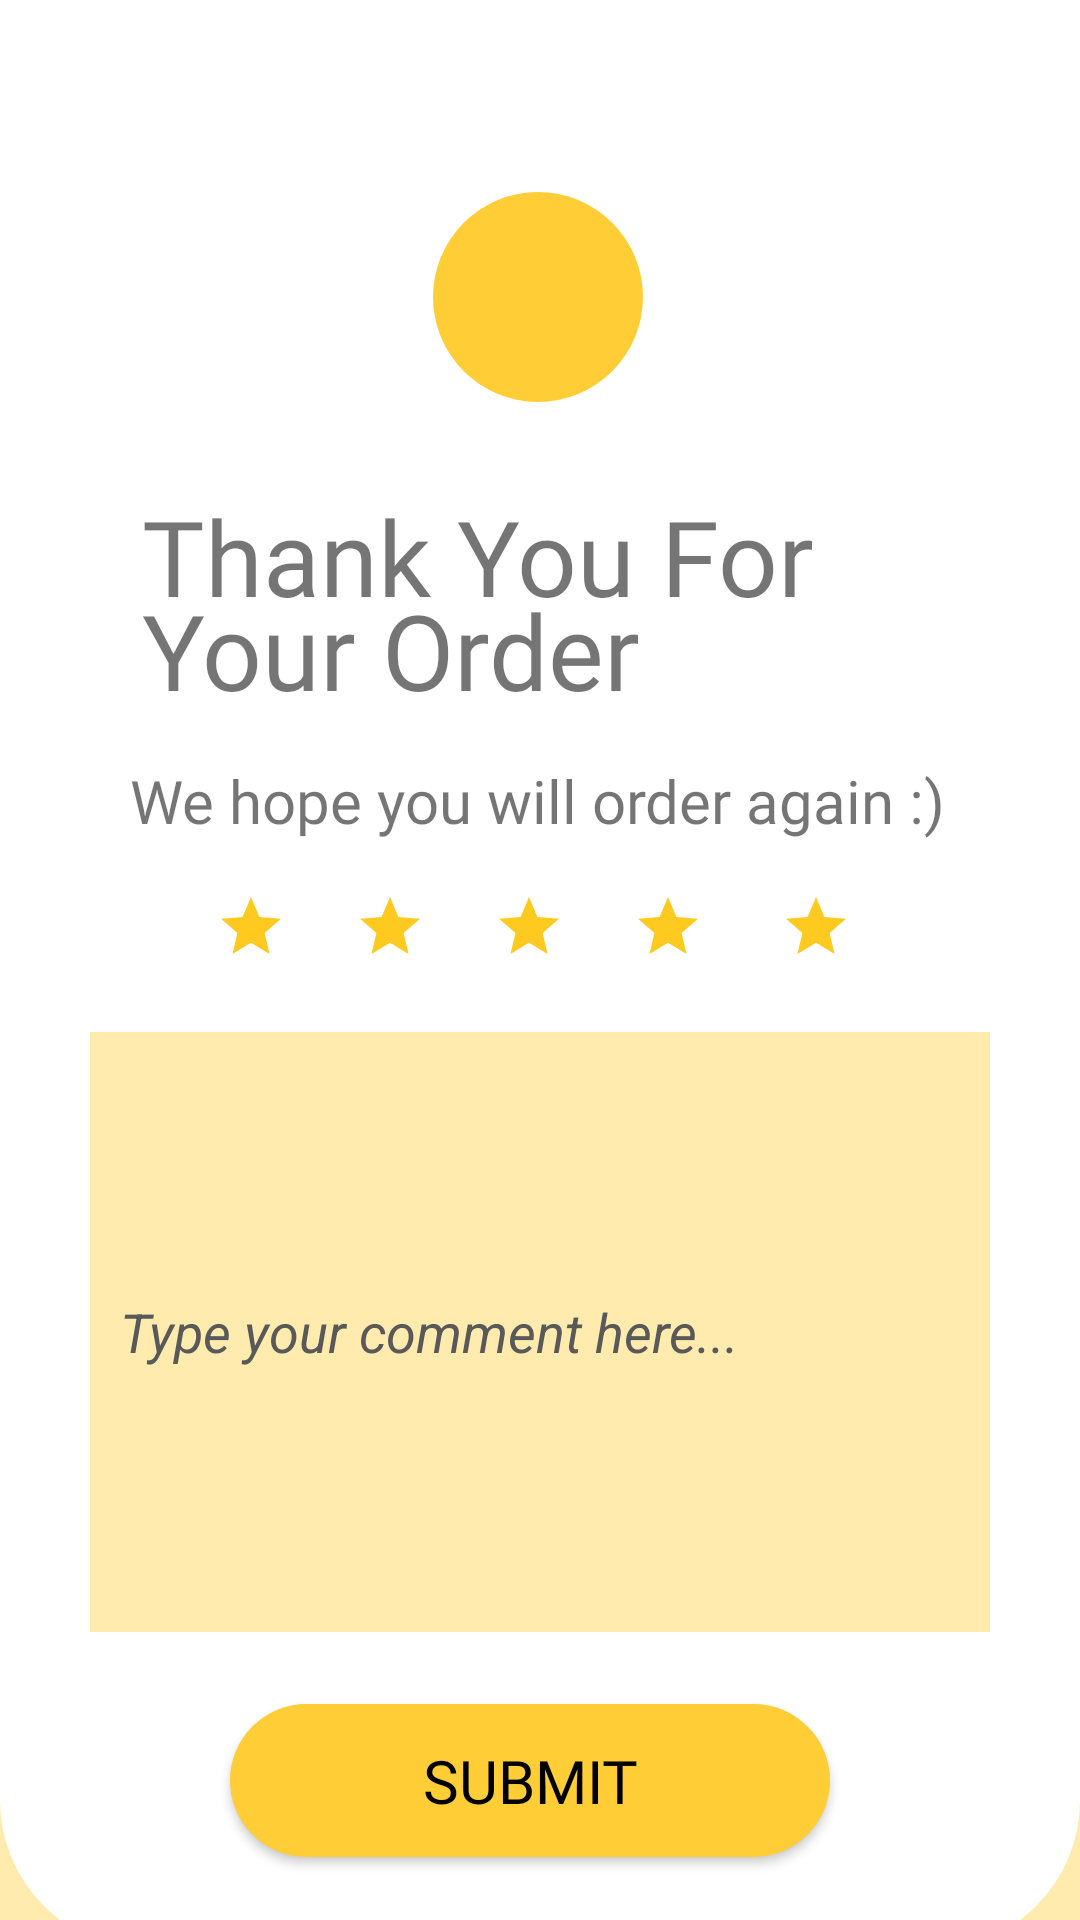

Point at icon controls on the screen. Image size 1080 × 1920, points as (x,y).
star: (251,925), (390,925), (529,925), (668,925), (816,925)
